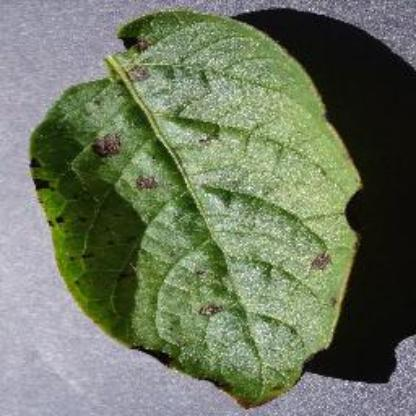Early-Blight: (28, 10, 364, 408)
